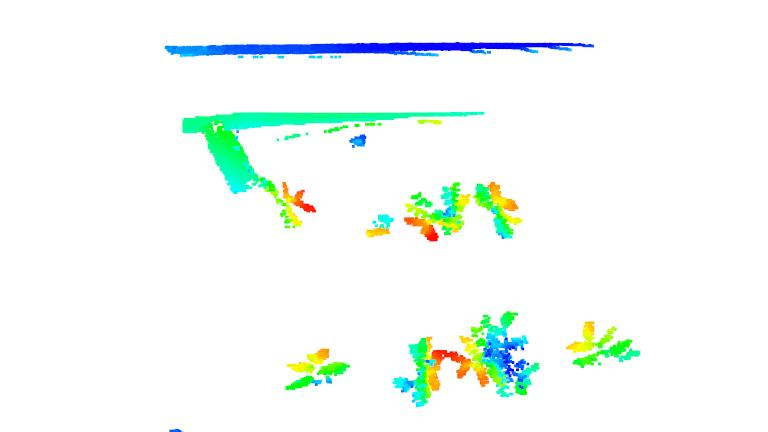chickpea: (453, 310, 543, 399), (391, 333, 450, 409), (405, 180, 475, 244), (566, 317, 645, 367), (474, 177, 525, 241), (260, 174, 318, 230), (283, 346, 351, 392), (362, 207, 397, 239)
